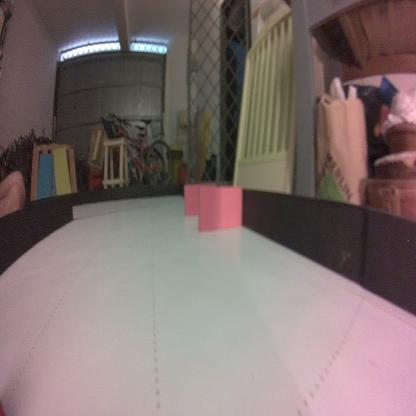magenta: (198, 184, 242, 236), (182, 183, 216, 221)
